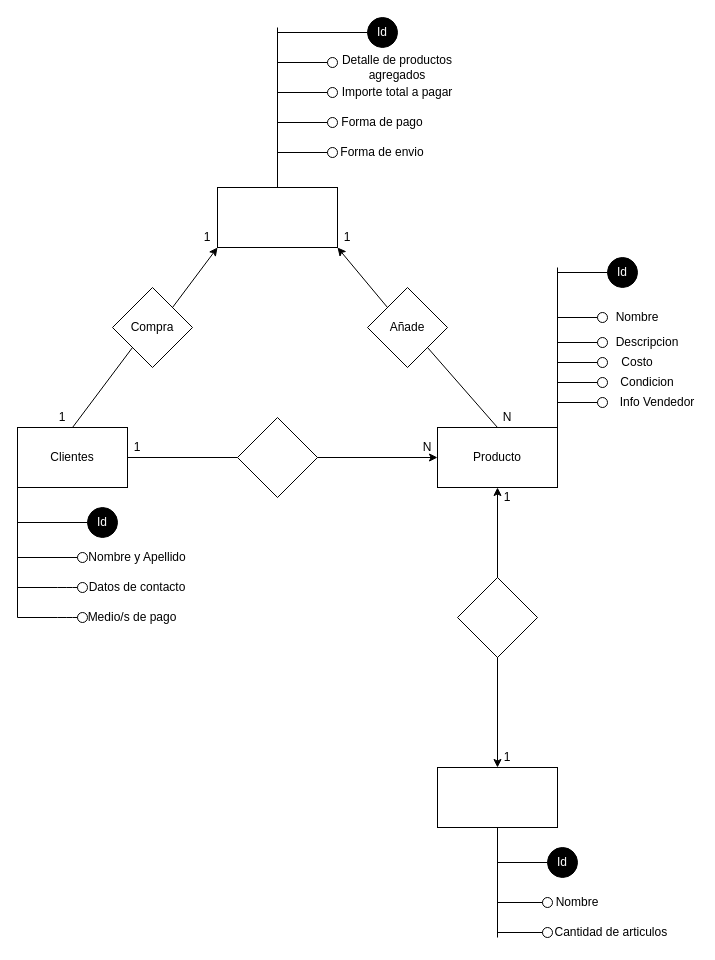
This 715x960 diagram has some shape labels left out. The shapes that lost their labels are listed below. From the top down, each one's centre as x and y in pixels, then its label:
At (x=277, y=217): "Mi Carrito".
At (x=277, y=457): "Vende".
At (x=497, y=617): "Pertenece".
At (x=497, y=797): "Categorias".
